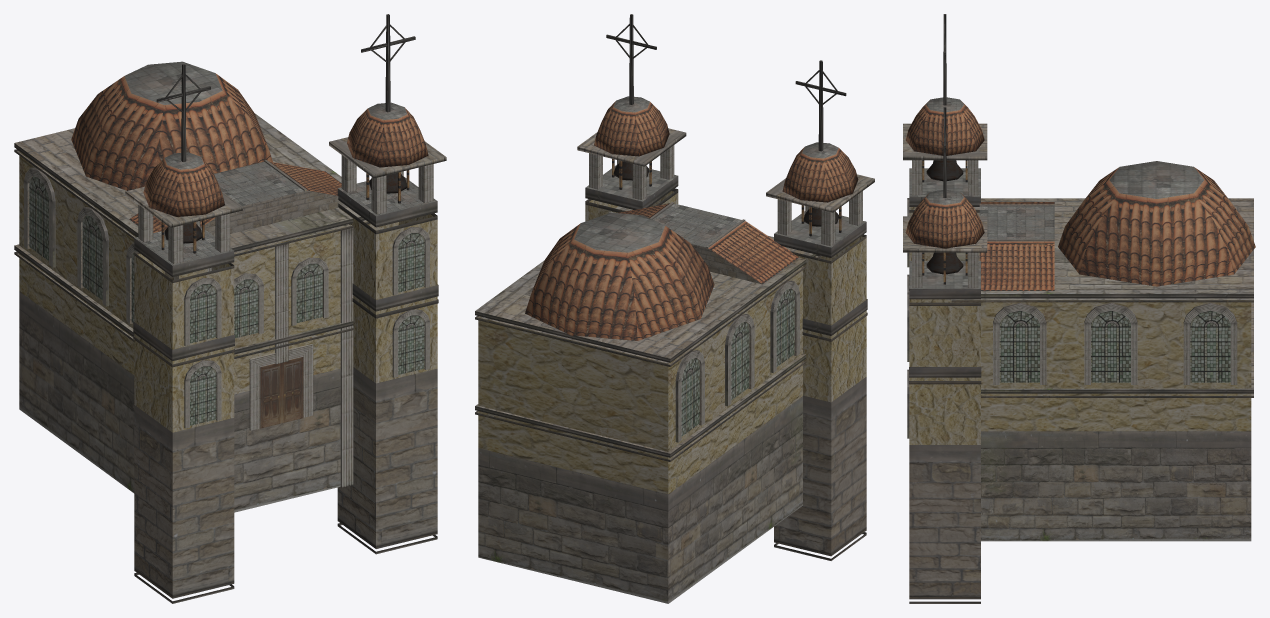
File: iber_church.dae
3 views of the same model, side by side, from view 1: azimuth 30°, elevation 25°; view 2: azimuth 150°, elevation 25°; view 3: azimuth 270°, elevation 25° (orthographic). The views are drawn at different scales.
Visible parts, largest first — view 1: Cube; view 2: Cube; view 3: Cube.
Boxes of the visible parts, box(x1,y1,x2,y2) form: Cube: box(14, 14, 446, 603); Cube: box(475, 14, 874, 603); Cube: box(903, 14, 1255, 603).
Bounding box in the file's own units: 25.36 × 30.13 × 45.49.
